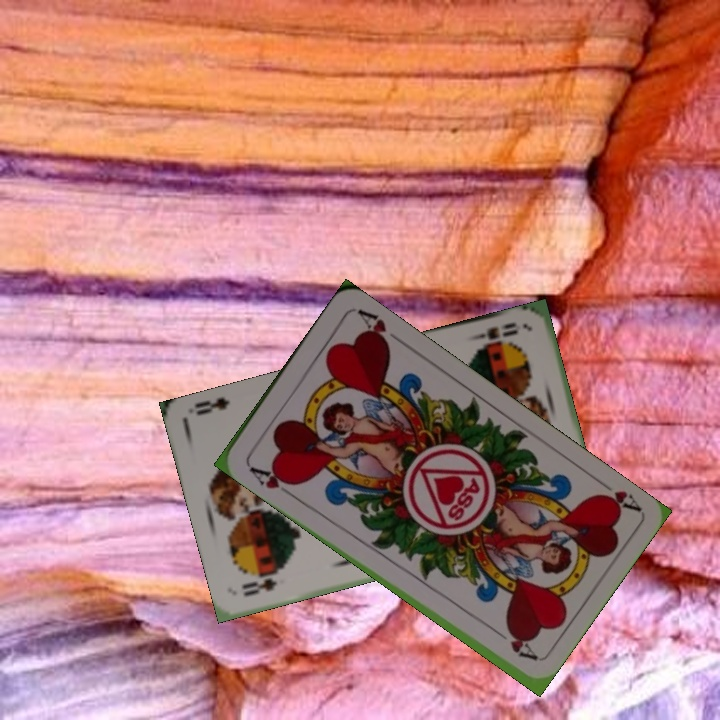HA: (243, 459, 298, 499), (590, 475, 642, 516)
SO: (467, 318, 521, 343), (237, 574, 280, 599)
